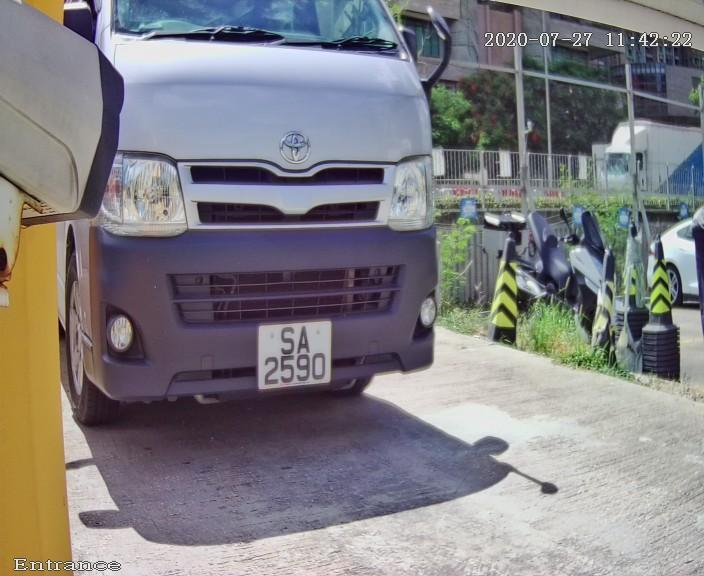privatecar: (45, 16, 500, 445)
